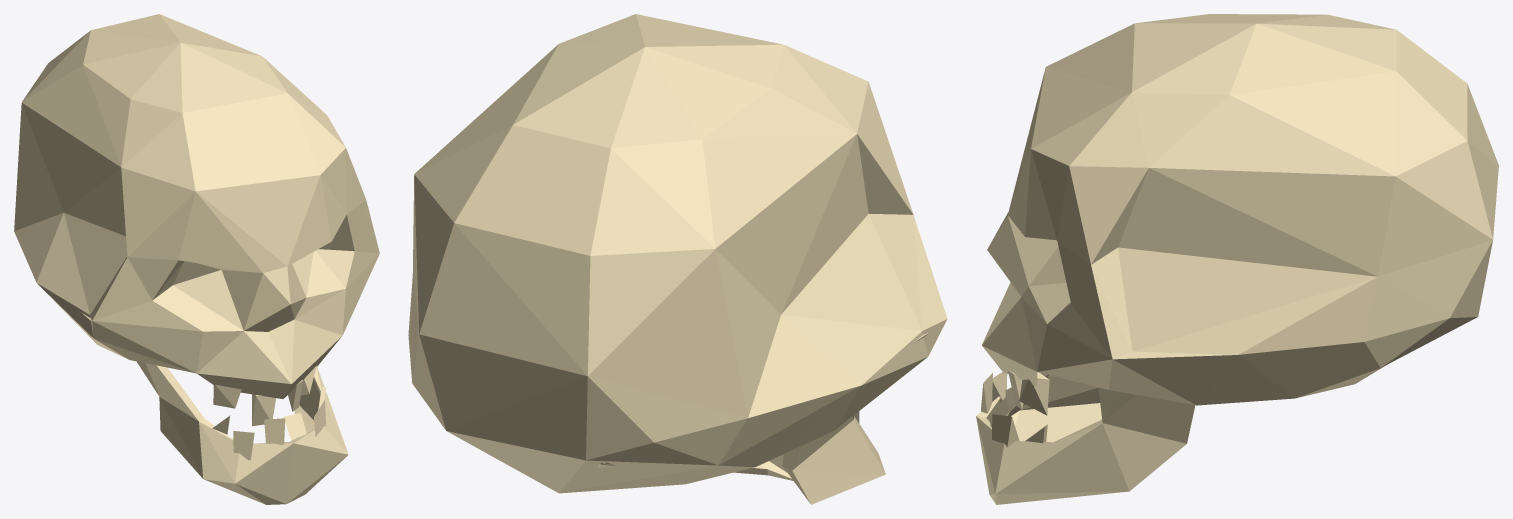
File: Skull.fbx
3 views of the same model, side by side, from view 1: azimuth 30°, elevation 25°; view 2: azimuth 150°, elevation 25°; view 3: azimuth 270°, elevation 25° (orthographic). The views are drawn at different scales.
Visible parts, largest first — view 1: Skull; view 2: Skull; view 3: Skull.
Boxes of the visible parts, box(x1,y1,x2,y2) form: Skull: box(14, 14, 379, 504); Skull: box(408, 14, 947, 504); Skull: box(976, 14, 1498, 504).
Size of the model in its own units: 13.21 by 16.6 by 16.65.
